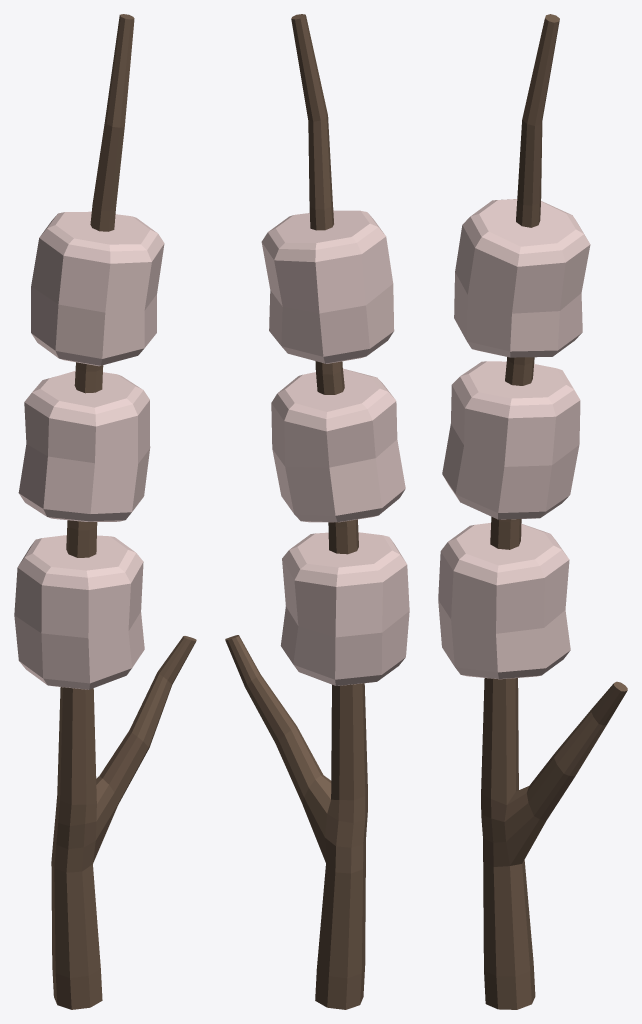
File: Marshmallow on Stick.glb
3 renders of one model, left to right at view 1: azimuth 30°, elevation 25°; view 2: azimuth 150°, elevation 25°; view 3: azimuth 330°, elevation 25°, orthographic. The views are drawn at different scales.
Parts seen in each view (by area): view 1: Marshmallow on Stick; view 2: Marshmallow on Stick; view 3: Marshmallow on Stick.
Part boxes in pixels (x1=…): Marshmallow on Stick: x1=14, y1=14, x2=196, y2=1009; Marshmallow on Stick: x1=225, y1=14, x2=409, y2=1009; Marshmallow on Stick: x1=438, y1=14, x2=627, y2=1009.
Bounding box in the file's own units: 0.2713 × 1.49 × 0.1748.
1 material, 1 textured.
